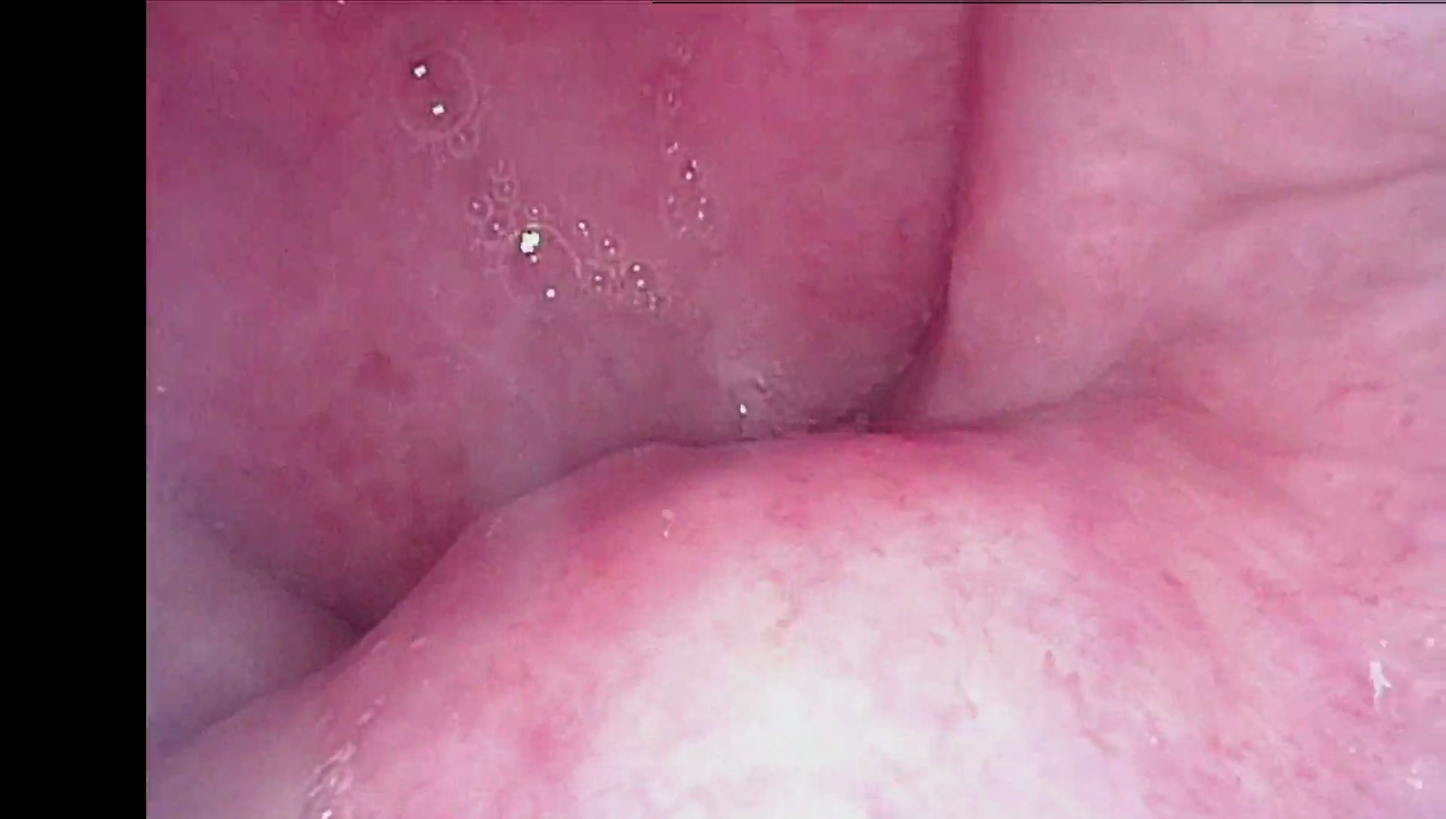close_wall: (557, 492, 1321, 819), (1192, 0, 1446, 156)
